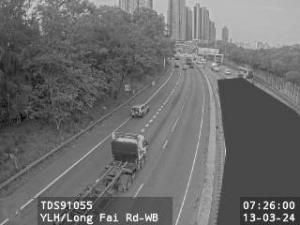bus: (238, 68, 254, 82), (186, 56, 190, 64)
truck: (56, 133, 148, 225), (130, 104, 150, 119), (211, 62, 219, 72)
vehicle: (130, 104, 150, 119), (224, 70, 232, 74), (182, 66, 186, 70), (175, 64, 179, 68), (190, 65, 194, 67)
